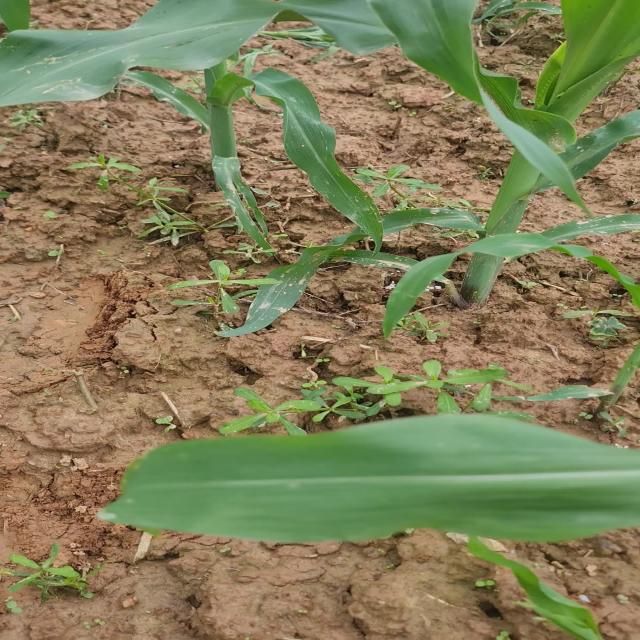maize: (18, 7, 640, 215), (151, 438, 640, 547), (489, 212, 640, 312), (486, 558, 640, 640)
weed: (178, 242, 465, 418), (20, 540, 104, 600)
